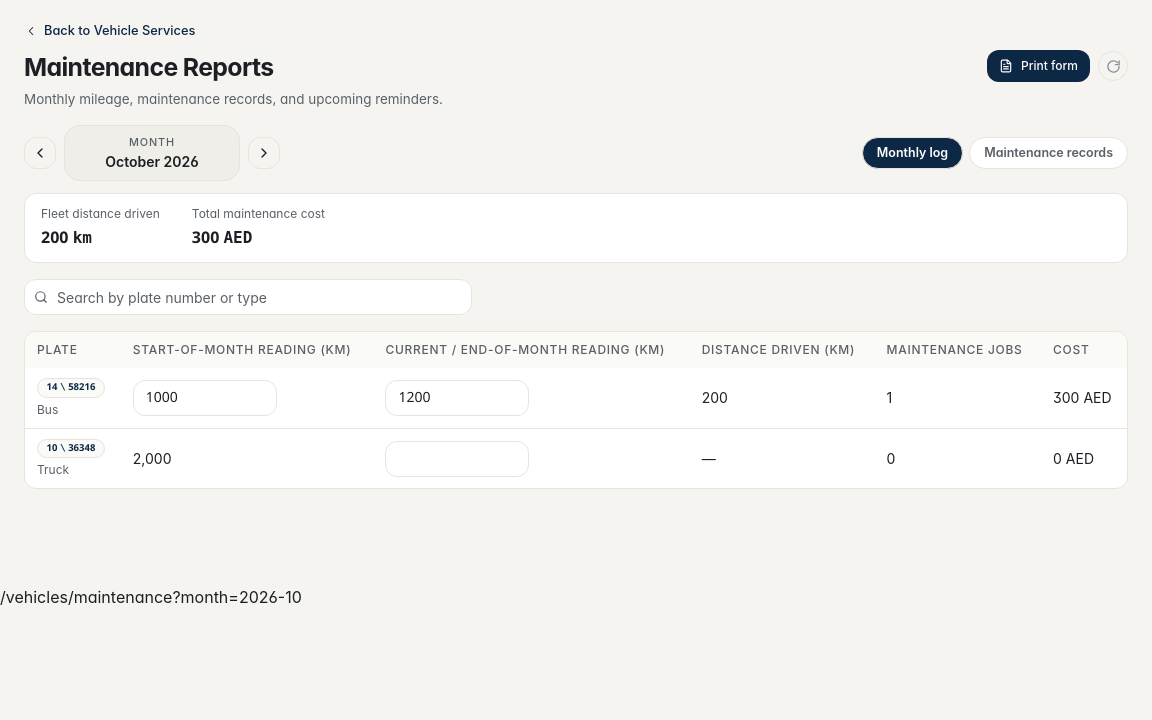
monthly vehicle maintenance › prints all vehicles and navigates to the book
Expected: the text "Bus" is shown, x1=37 y1=402 x2=58 y2=418
What coordinates should you click on to do the following:
click the button "Print form"
I would click on:
 (1039, 66)
Its box is x1=987 y1=50 x2=1090 y2=82.
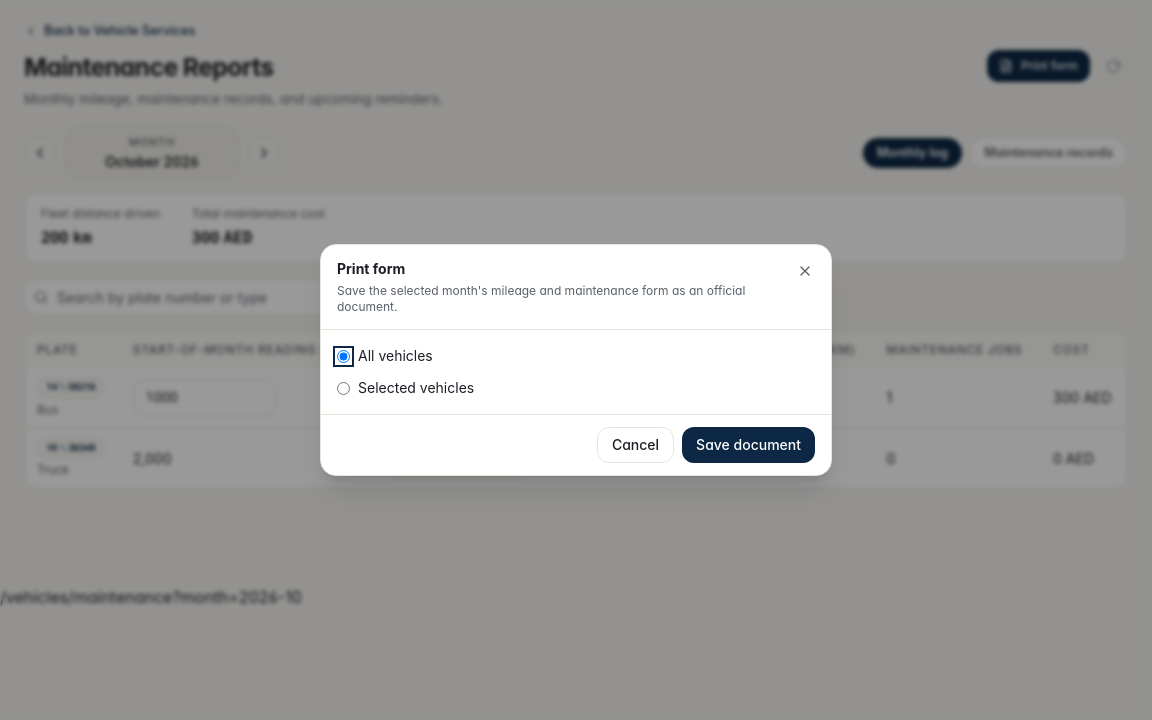
Expected: the radio button labelled "All vehicles" is checked, x1=337 y1=350 x2=350 y2=362
What coordinates should you click on to do the following:
click the button "Save document"
I would click on:
 (749, 445)
Its box is x1=682 y1=427 x2=815 y2=463.
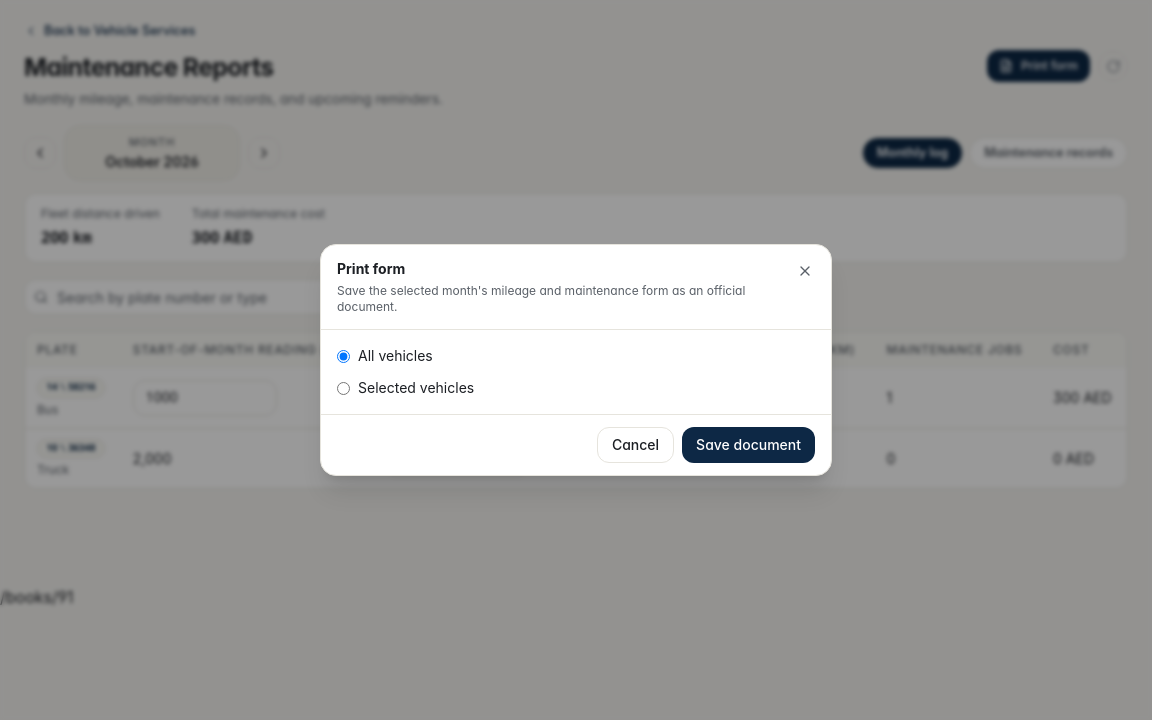
Expected: the text "/books/91" is shown, x1=0 y1=587 x2=74 y2=607
